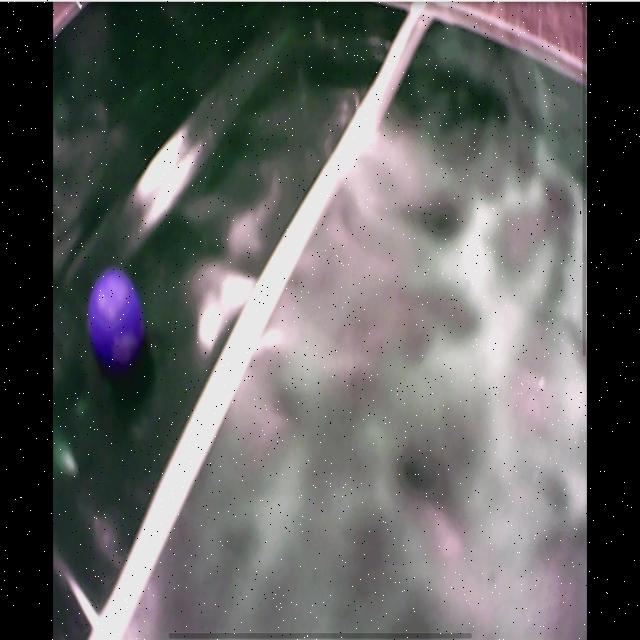ball: (85, 269, 142, 366)
